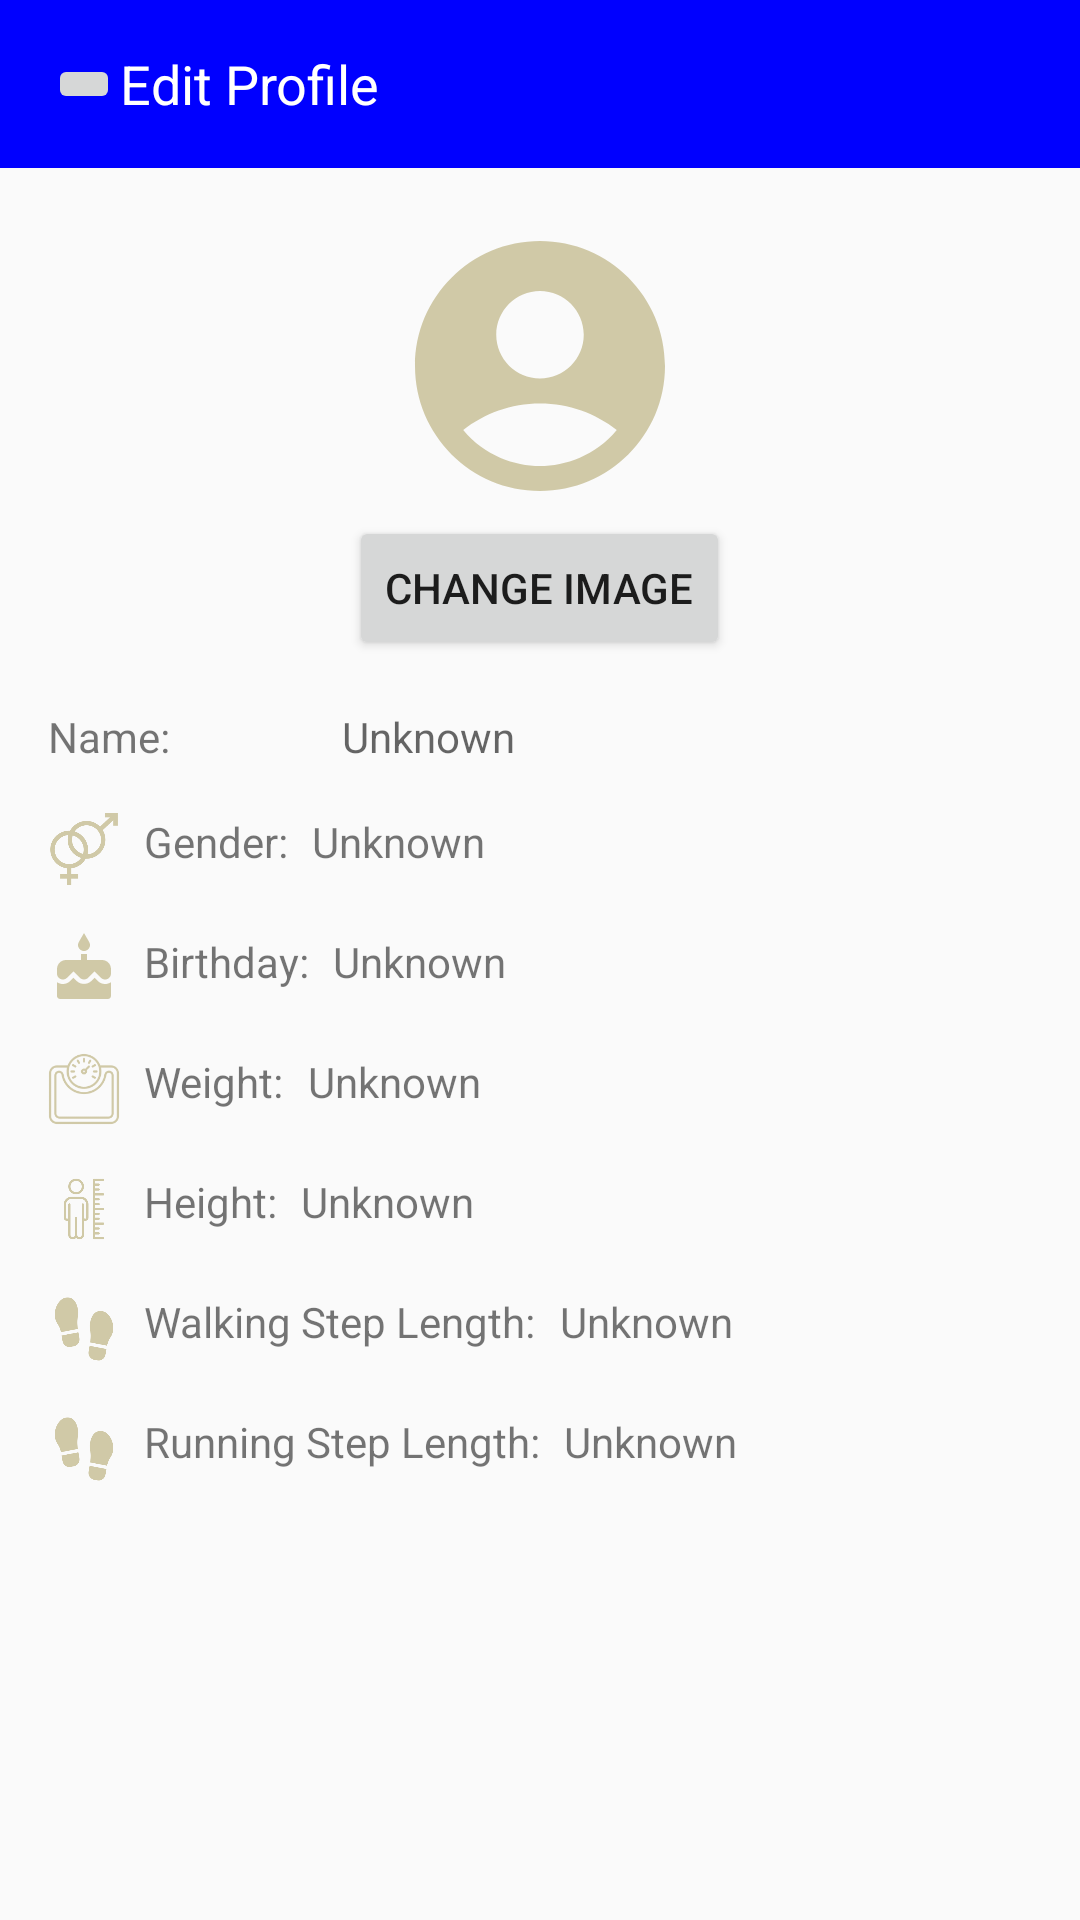

Locate icon controls on the screen. Image size 1080*1920, boxes as (left=x1, top=y1, right=x2, bottom=y2).
account circle: (left=415, top=241, right=665, bottom=491)
cake: (left=57, top=934, right=111, bottom=999)
footstep: (left=55, top=1297, right=113, bottom=1361), (left=55, top=1417, right=113, bottom=1481)
